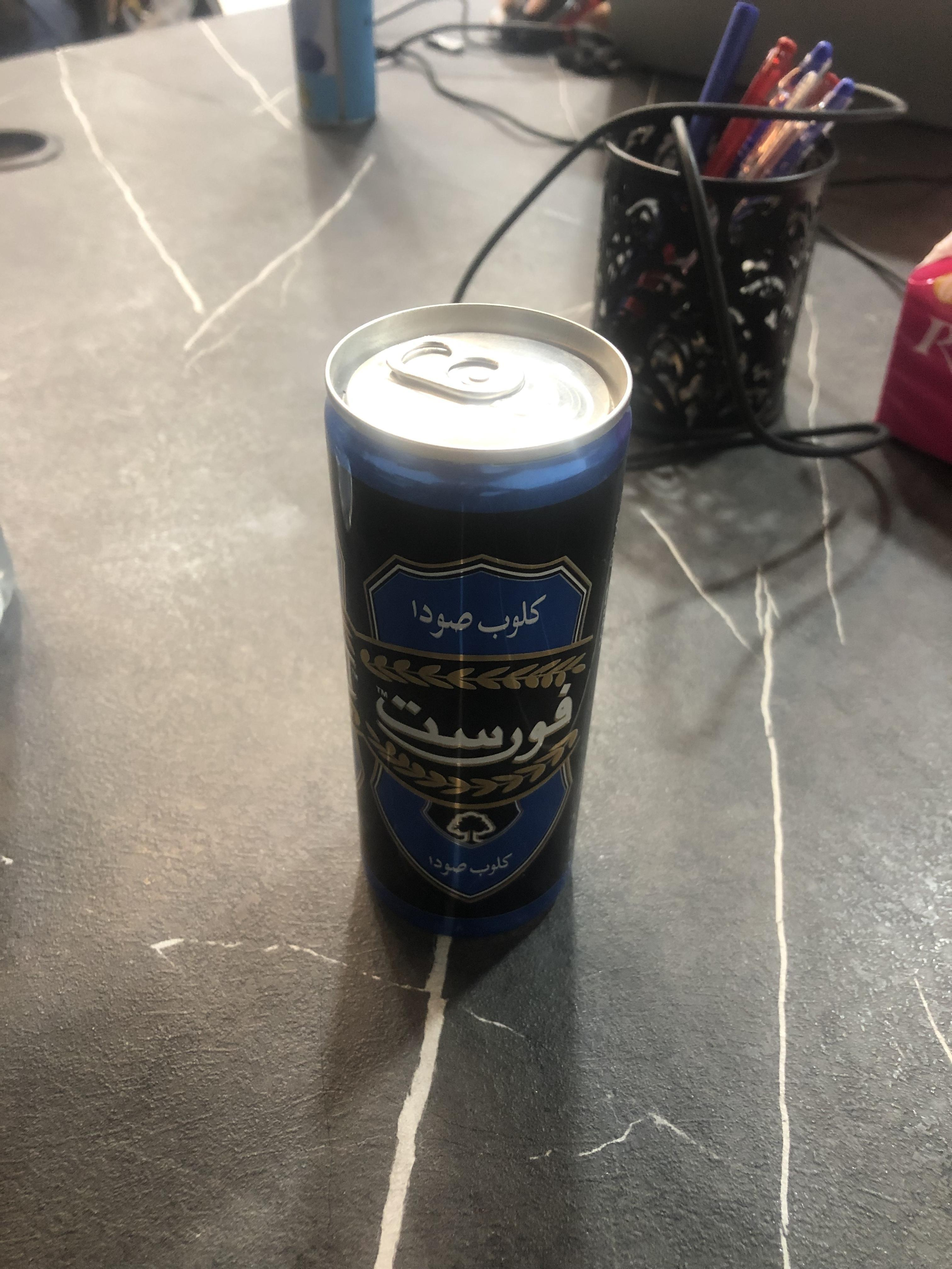tin can: (319, 293, 633, 939)
